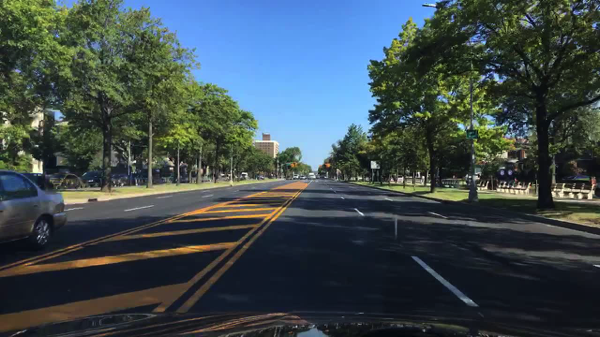car: (0, 169, 67, 250), (19, 171, 54, 191), (48, 171, 85, 189), (80, 170, 118, 187), (562, 174, 593, 189), (140, 168, 163, 184), (112, 173, 130, 187), (127, 172, 145, 184), (465, 171, 480, 182), (390, 174, 403, 182), (307, 172, 316, 180), (241, 172, 249, 179), (299, 174, 307, 180), (221, 174, 229, 180), (293, 173, 300, 179), (257, 174, 264, 180), (235, 175, 242, 180), (286, 176, 294, 180), (315, 174, 320, 178)
traffic light: (290, 163, 295, 168), (325, 163, 330, 168), (293, 162, 297, 168)
traffic sign: (464, 129, 479, 139), (369, 160, 381, 169)
